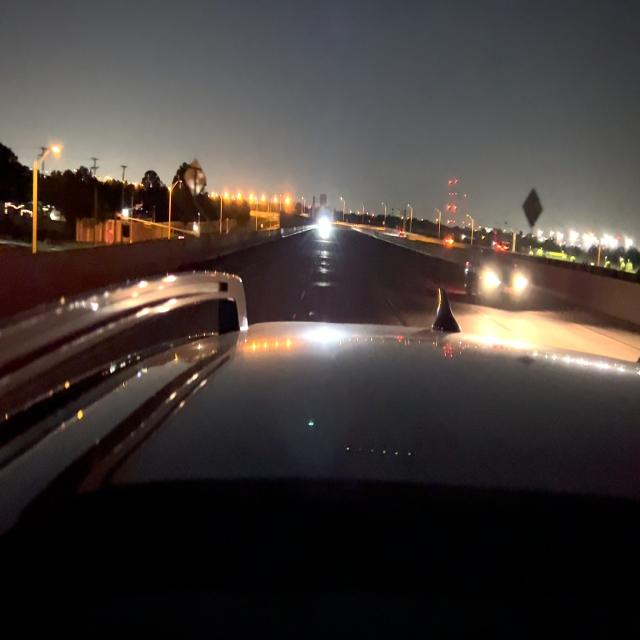back-of-sign: (184, 159, 207, 201)
